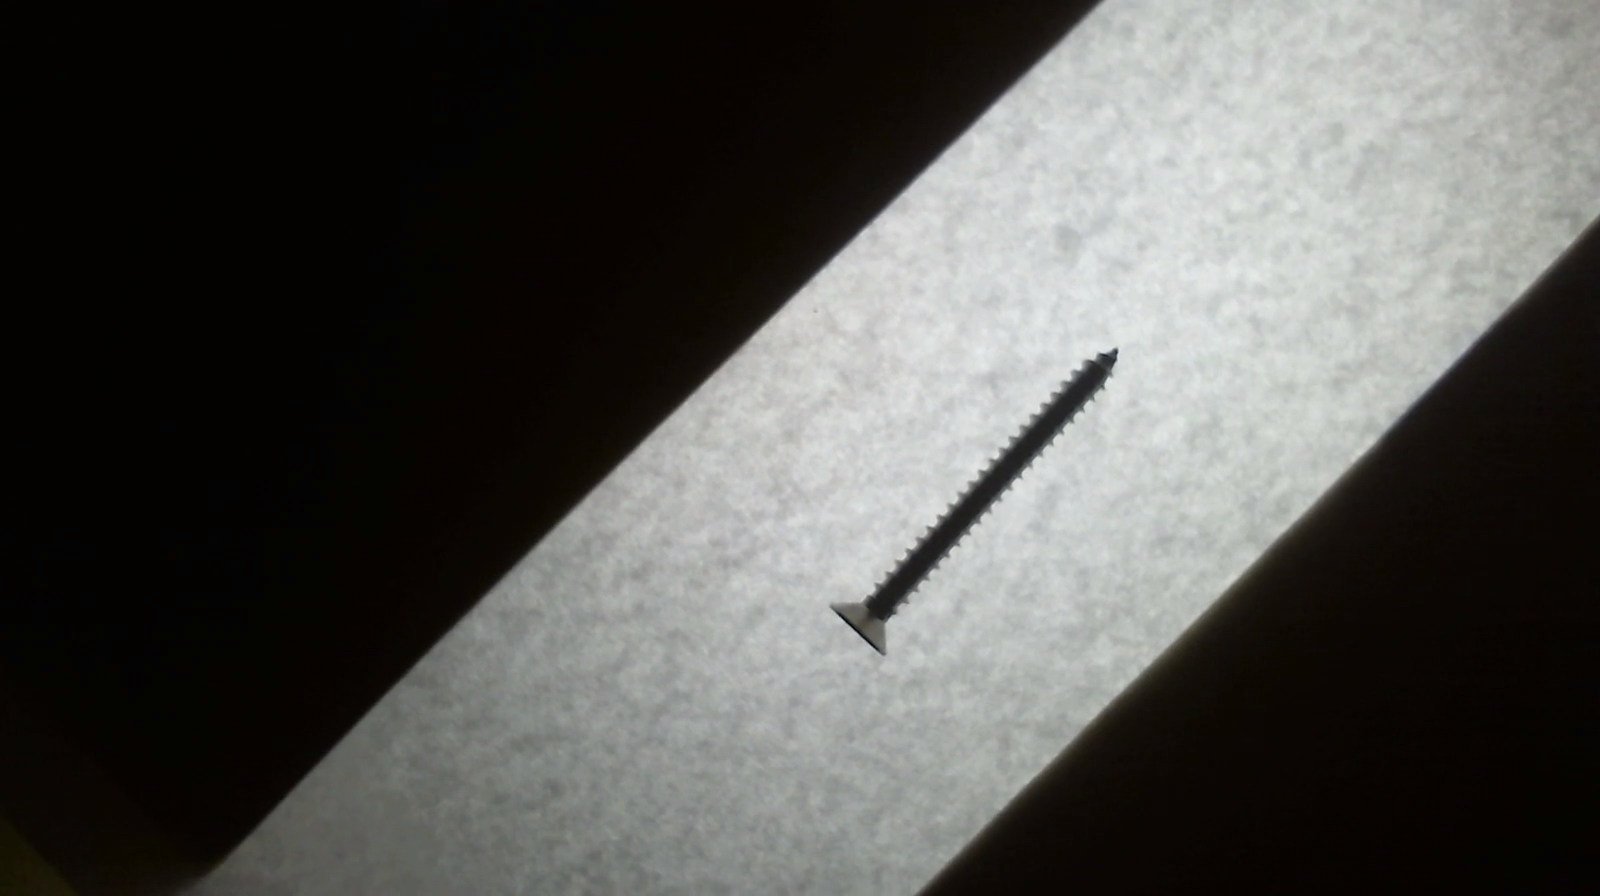S002: (824, 333, 1127, 673)
